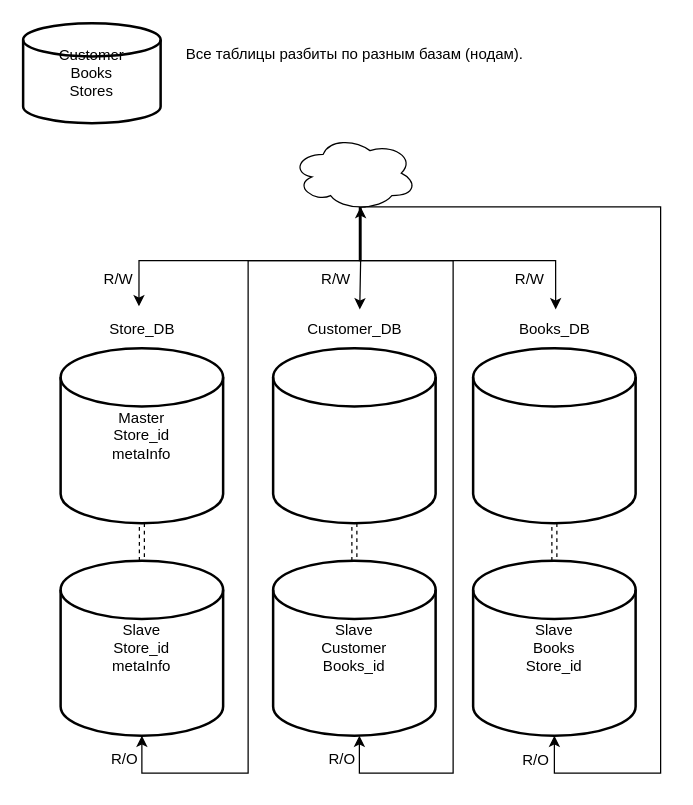
Image size: 693x805. Some labels were removed from this diagram. The centre of each missing label's shape, as x and y in pixels:
"Clients" goes at point (354, 172).
"Master Books Store_id" goes at point (553, 435).
"Master Customer Books_id" goes at point (353, 435).
